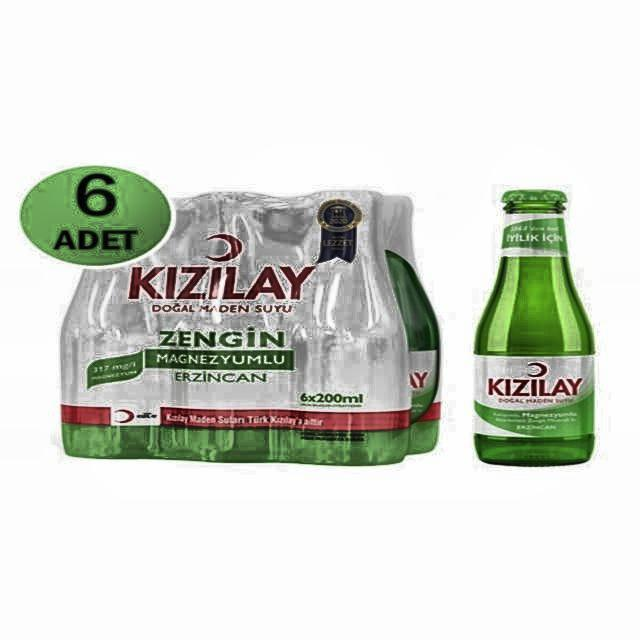glass: (472, 189, 596, 469)
